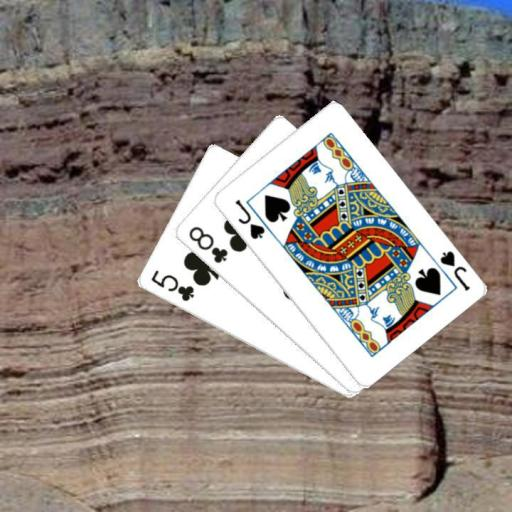5C: (147, 267, 196, 304)
8C: (185, 223, 229, 265)
JS: (231, 196, 267, 241), (436, 248, 471, 293)
